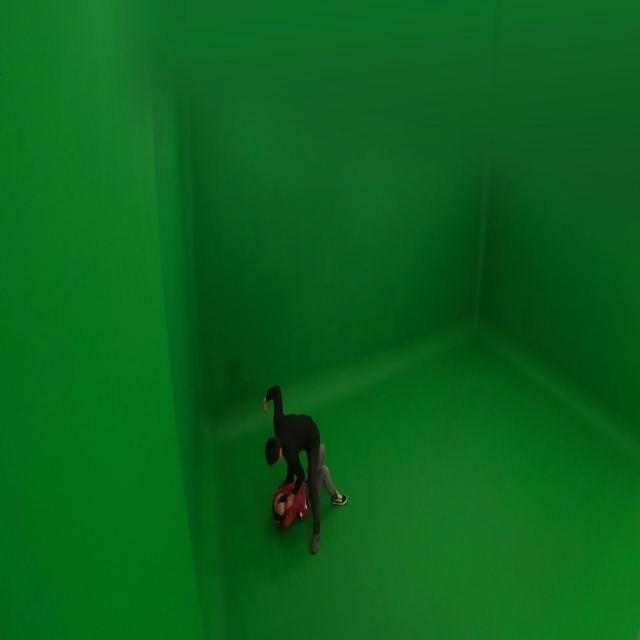fight: (259, 383, 346, 558)
